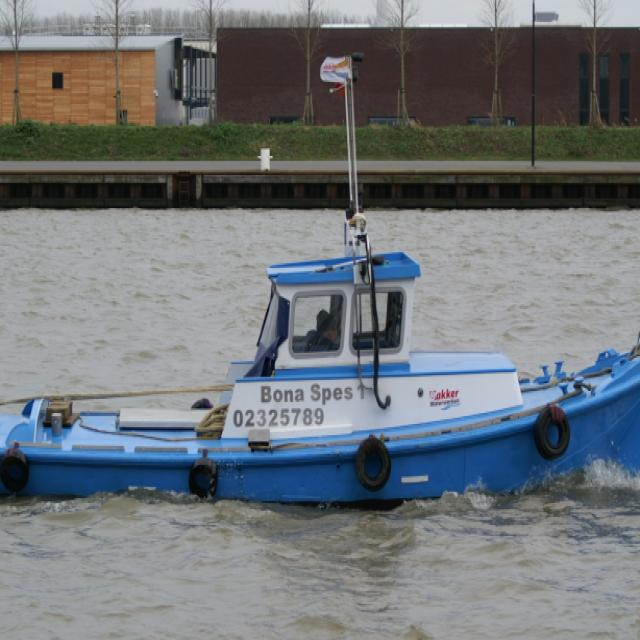tugboat: (1, 202, 640, 525)
